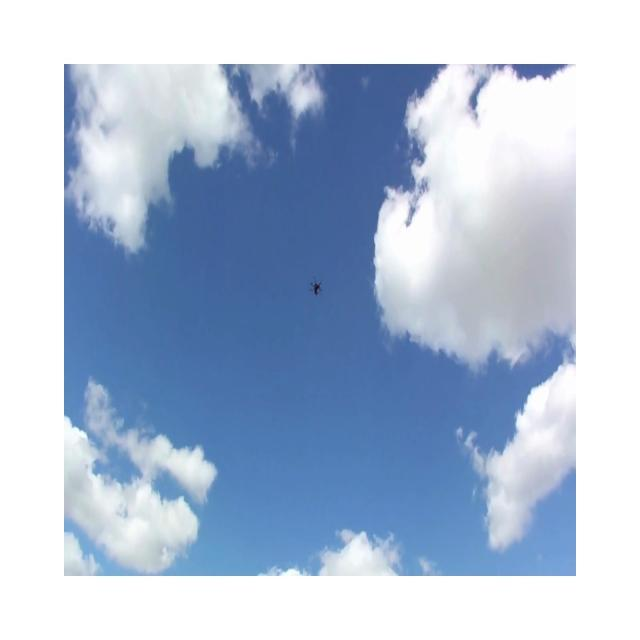drone: (309, 276, 322, 296)
